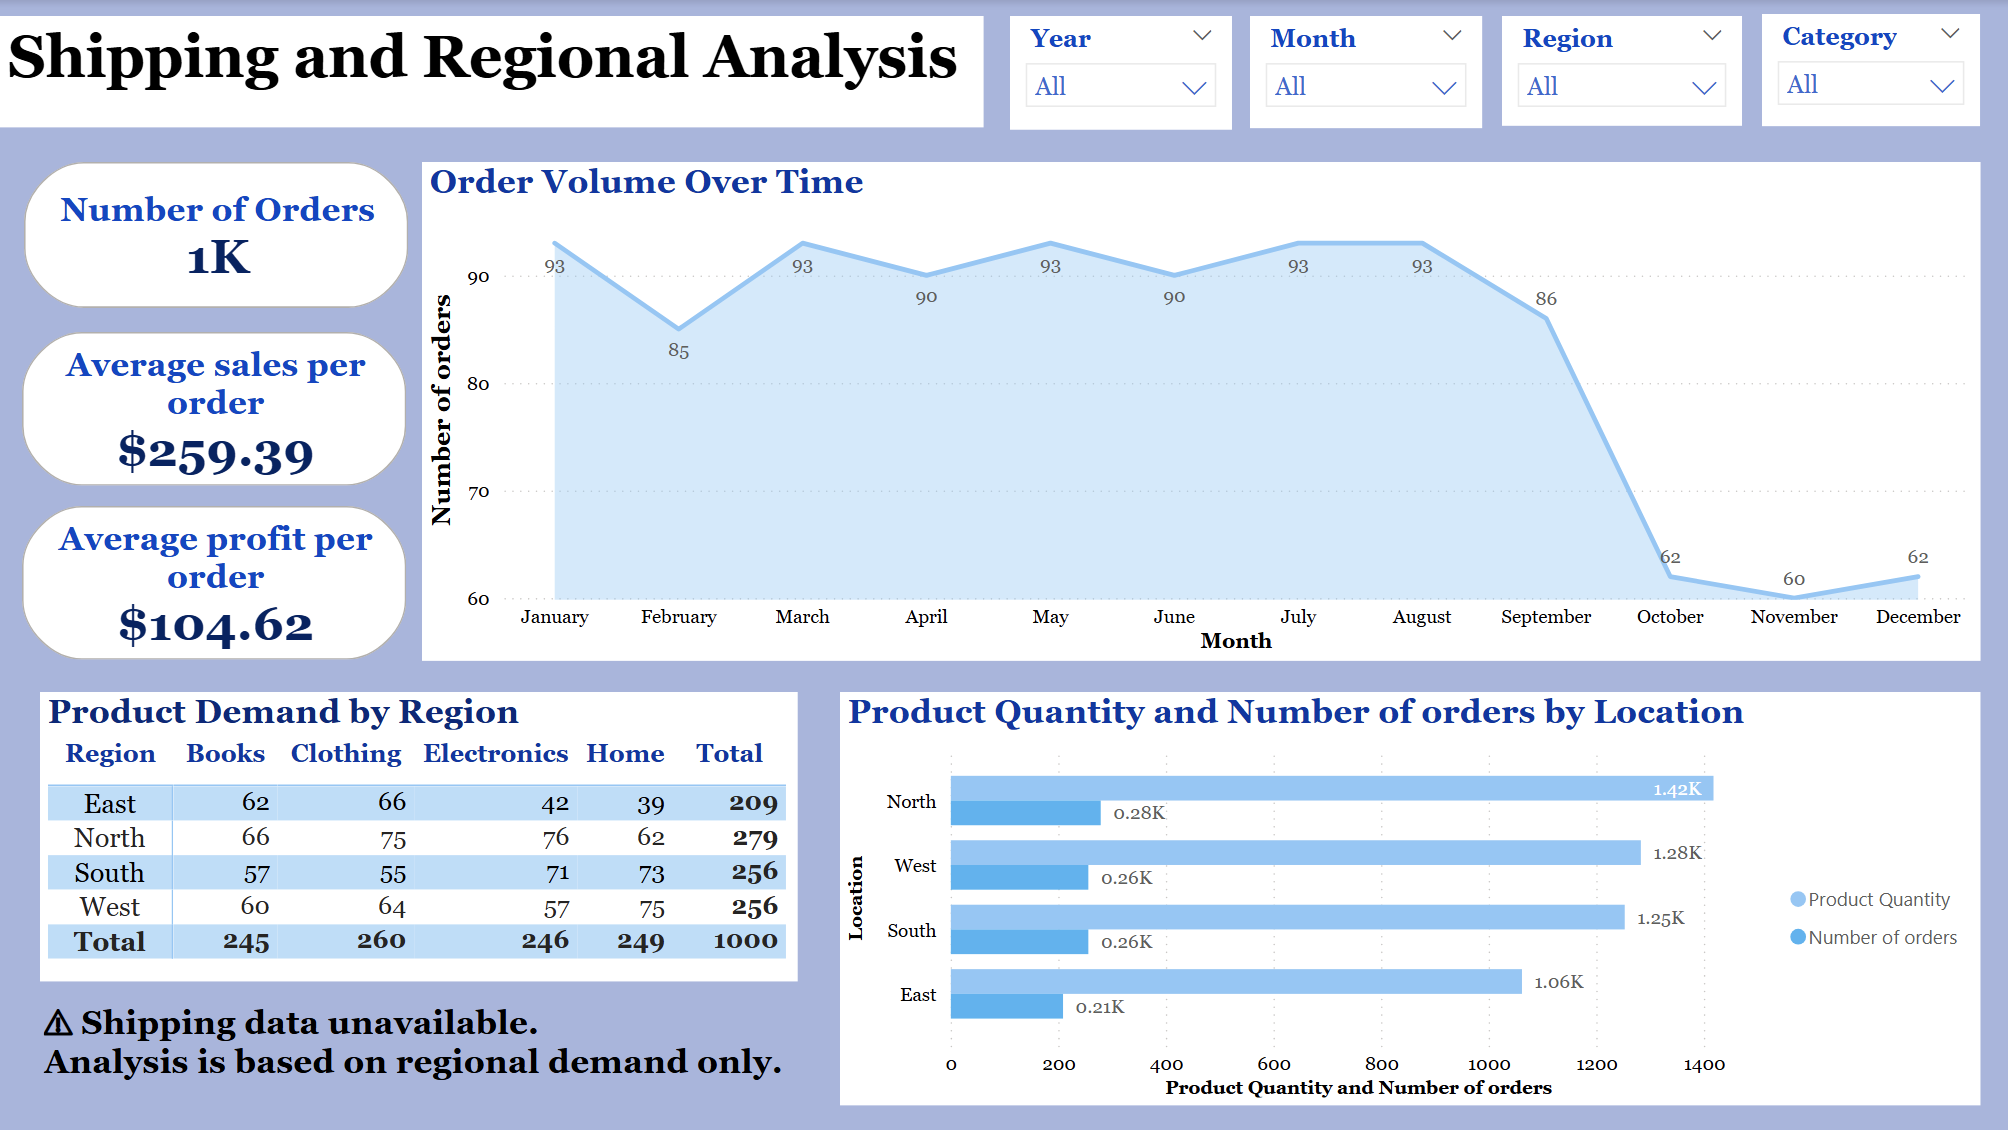

The dashboard page shown, as its layout file describes it:
{"tool":"powerbi","page":{"name":"Shipping & Regional","canvas":[1280,720],"ordinal":3},"visuals":[{"type":"textbox","box":[0,10.6,626.9,71.2],"z":0},{"type":"pivotTable","title":"Product Demand by Region","fields":{"Rows":["Customers.Location"],"Columns":["Products.Category"],"Values":["CountNonNull(Sales.SalesID)"]},"box":[25.7,440.6,483,184.7],"z":1000},{"type":"cardVisual","fields":{"Data":["Sales.Average sales per order"]},"box":[13.6,212,245.3,98.4],"z":2000},{"type":"cardVisual","fields":{"Data":["CountNonNull(Sales.SalesID)"]},"box":[15.1,103,245.3,93.9],"z":3000},{"type":"cardVisual","fields":{"Data":["Sales.Average profit per order"]},"box":[13.6,322.5,245.3,98.4],"z":4000},{"type":"areaChart","title":"Order Volume Over Time","fields":{"Category":["Sales.Sale Date.Variation.Date Hierarchy.Month"],"Y":["CountNonNull(Sales.SalesID)"]},"box":[269.5,103,993.3,318],"z":5000},{"type":"clusteredBarChart","fields":{"Category":["Customers.Location"],"Y":["Sum(Sales.Quantity)","CountNonNull(Sales.SalesID)"]},"box":[536,440.6,726.8,263.5],"z":6000},{"type":"slicer","fields":{"Values":["Customers.Location"]},"box":[957.5,10.2,153,70.1],"z":7000},{"type":"slicer","fields":{"Values":["Date.Year"]},"box":[643.8,10.2,141.5,72.7],"z":8000},{"type":"slicer","fields":{"Values":["Products.Category"]},"box":[1123.2,8.9,139,71.4],"z":9000},{"type":"slicer","fields":{"Values":["Date.Month Name"]},"box":[796.8,10.2,147.9,71.4],"z":10000},{"type":"textbox","box":[22.7,631.4,495.1,72.7],"z":11000}]}

Visuals, with their boxes in screenshot pixels (x1, y1, x2, y2), scaled from the page's 1280x720 canvas onto the 2008x1130 screenshot:
textbox: detection(0, 17, 983, 128)
"Product Demand by Region" pivotTable: detection(40, 691, 798, 981)
cardVisual - Sales.Average sales per order: detection(21, 333, 406, 487)
cardVisual - CountNonNull(Sales.SalesID): detection(24, 162, 409, 309)
cardVisual - Sales.Average profit per order: detection(21, 506, 406, 661)
"Order Volume Over Time" areaChart: detection(423, 162, 1981, 661)
clusteredBarChart - Customers.Location x Sum(Sales.Quantity): detection(841, 691, 1981, 1105)
slicer - Customers.Location: detection(1502, 16, 1742, 126)
slicer - Date.Year: detection(1010, 16, 1232, 130)
slicer - Products.Category: detection(1762, 14, 1980, 126)
slicer - Date.Month Name: detection(1250, 16, 1482, 128)
textbox: detection(36, 991, 812, 1105)
